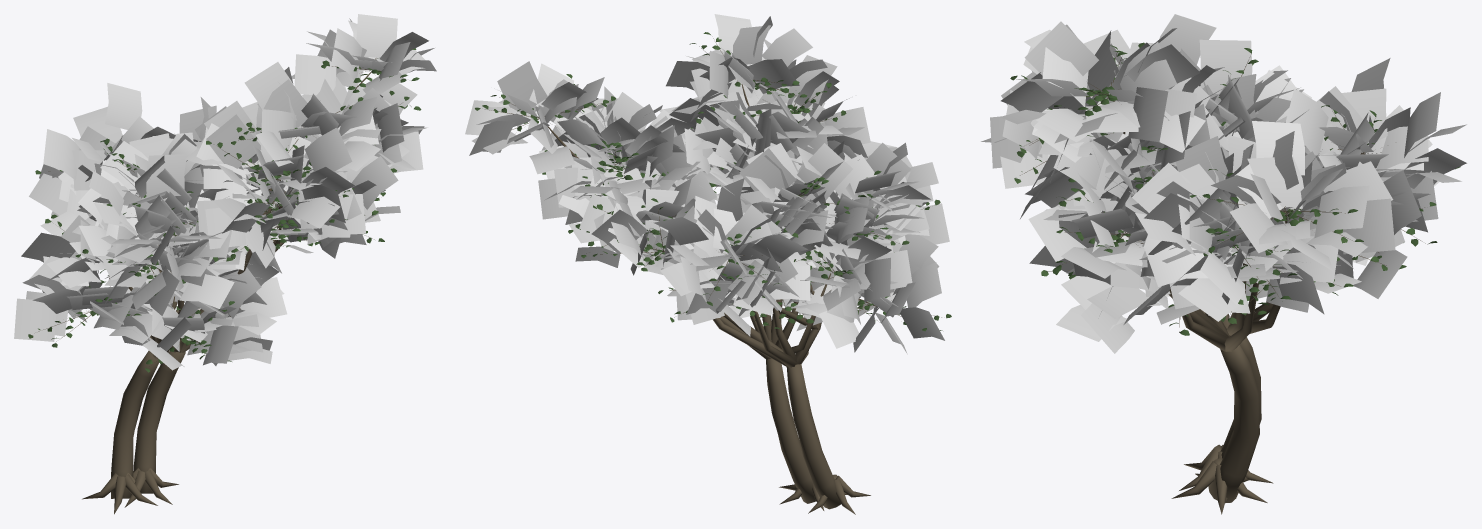
The model's file is CheneVert_Incline_LOD0.fbx.
3 views of the same model, side by side, from view 1: azimuth 30°, elevation 25°; view 2: azimuth 150°, elevation 25°; view 3: azimuth 270°, elevation 25° (orthographic). The views are drawn at different scales.
Visible parts, largest first — view 1: CheneVert_Incline; view 2: CheneVert_Incline; view 3: CheneVert_Incline.
Boxes of the visible parts, box(x1,y1,x2,y2) form: CheneVert_Incline: box(14, 14, 436, 514); CheneVert_Incline: box(465, 14, 951, 514); CheneVert_Incline: box(981, 14, 1466, 514).
Bounding box in the file's own units: 834 × 747 × 606.
